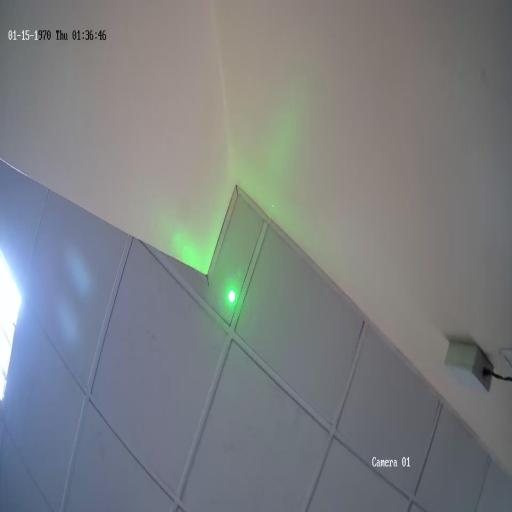laser: (225, 284, 238, 307)
